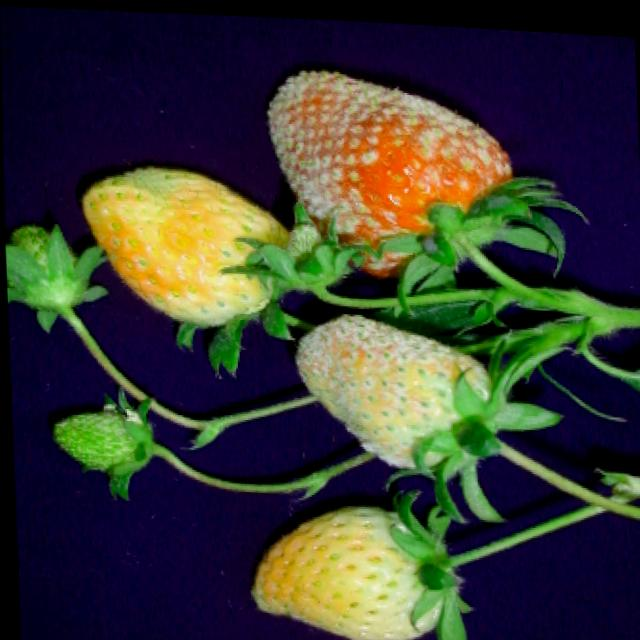Powdery Mildew Fruit: (266, 66, 512, 274), (293, 307, 499, 469)
